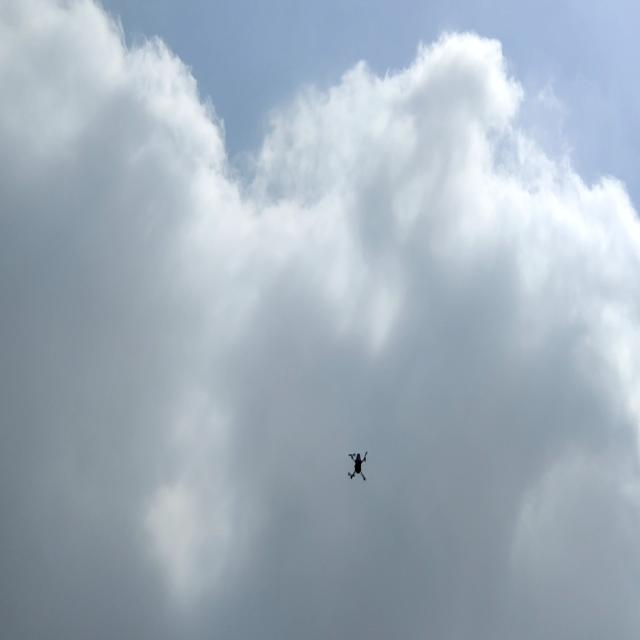drone: (346, 442, 372, 489)
